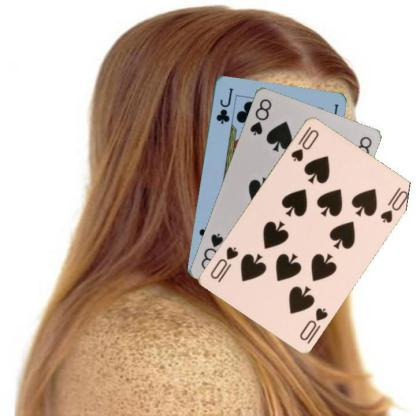10s: (296, 304, 330, 342), (288, 126, 320, 163)
8s: (247, 96, 273, 136)
Jc: (213, 85, 234, 125)
